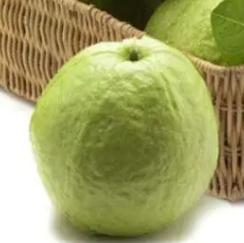guava_A: (29, 37, 219, 237)
